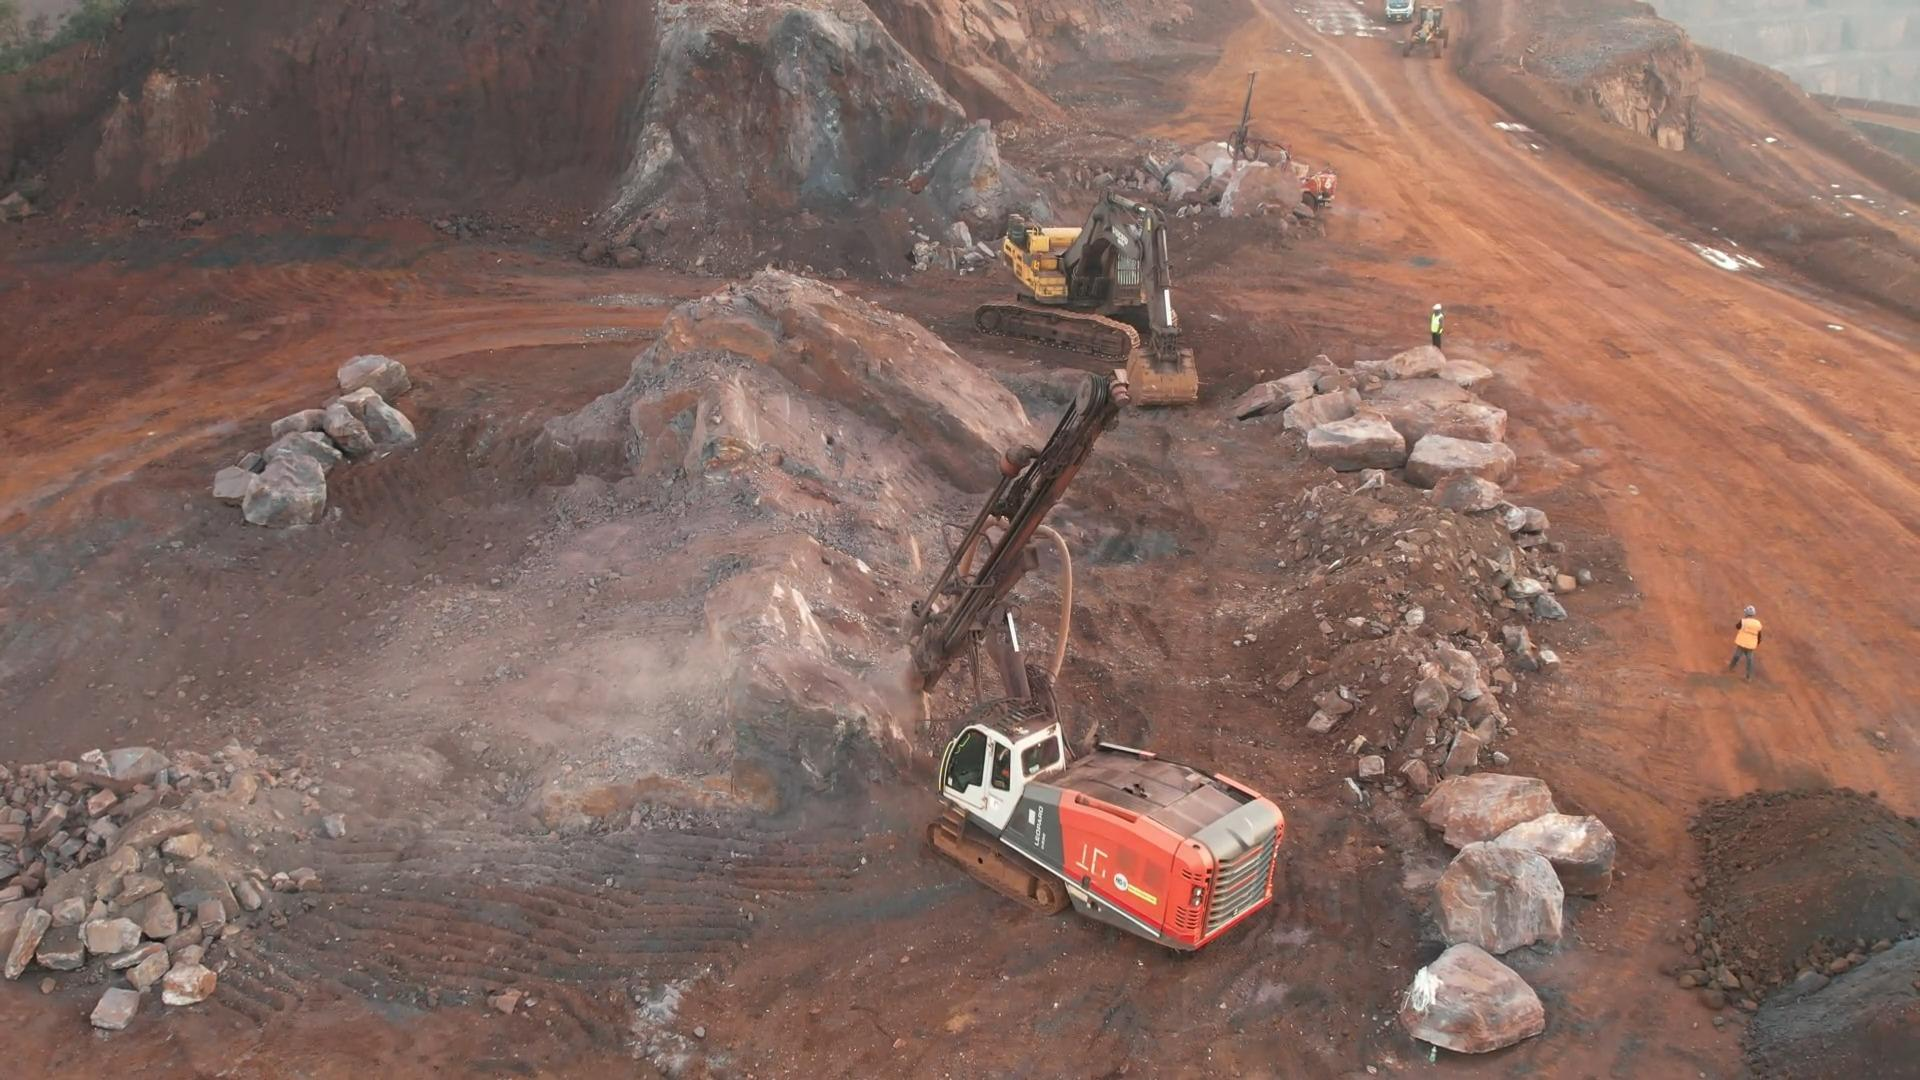excavator: (990, 189, 1197, 375)
